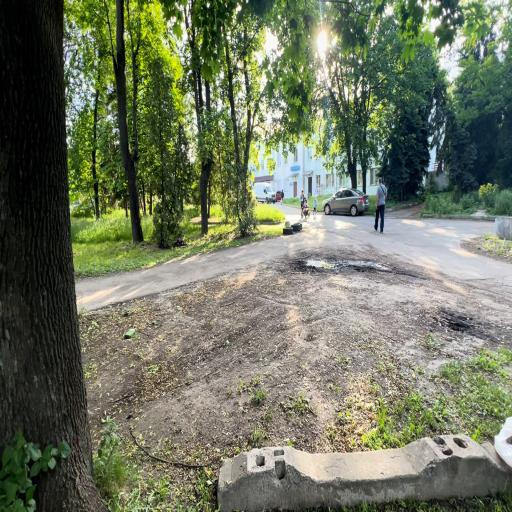drone: (172, 236, 186, 248)
